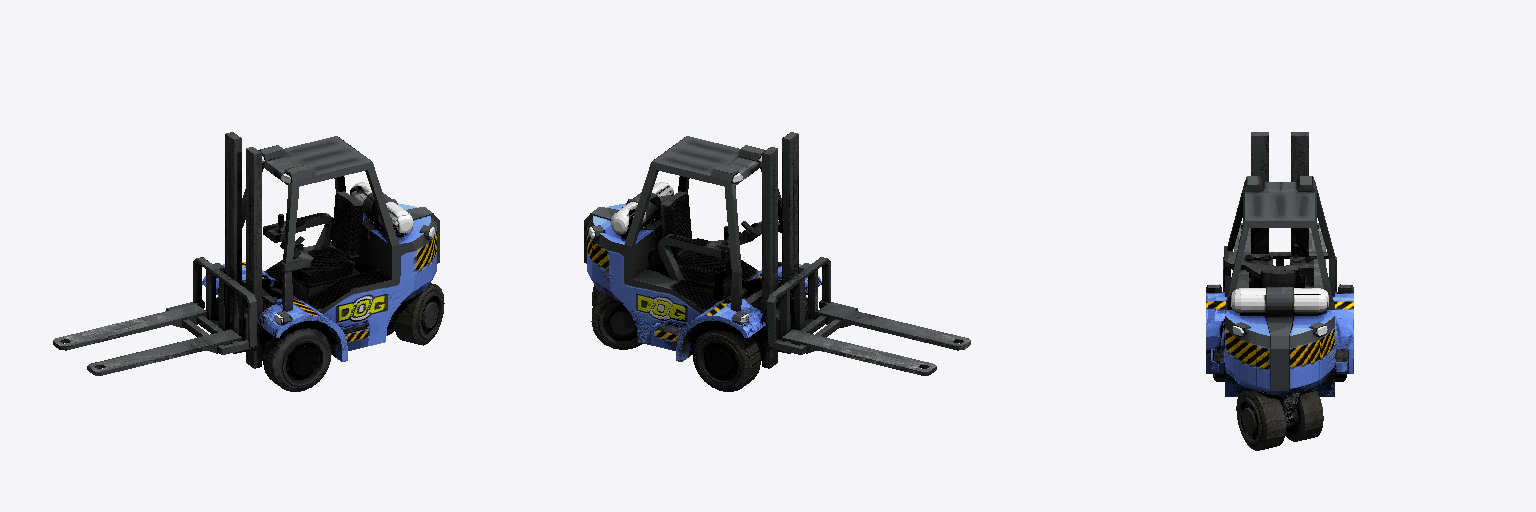
3 renders of one model, left to right at view 1: azimuth 30°, elevation 25°; view 2: azimuth 150°, elevation 25°; view 3: azimuth 270°, elevation 25°, orthographic.
Visible parts, largest first — view 1: obj1; view 2: obj1; view 3: obj1.
Part boxes in pixels (bbox=[...]): obj1: bbox=[53, 132, 444, 391]; obj1: bbox=[584, 132, 970, 391]; obj1: bbox=[1206, 132, 1353, 450].
Bounding box in the file's own units: 1.18 × 0.7198 × 0.418.
Materials: 1 (1 with a texture image).